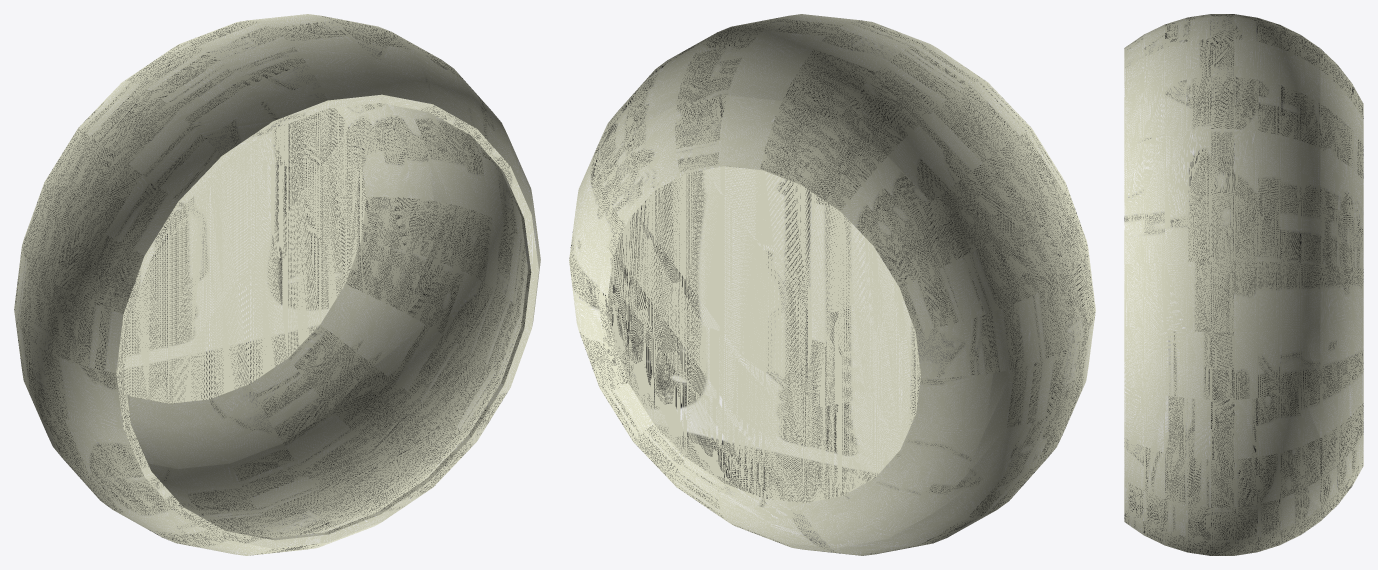
Rendered from model_align.obj.
3 renders of one model, left to right at view 1: azimuth 30°, elevation 25°; view 2: azimuth 150°, elevation 25°; view 3: azimuth 270°, elevation 25°, orthographic. The views are drawn at different scales.
Parts seen in each view (by area): view 1: mesh1_mesh1-geometry; view 2: mesh1_mesh1-geometry; view 3: mesh1_mesh1-geometry.
Boxes of the visible parts, x1,y1,x2,y2 form: mesh1_mesh1-geometry: [14, 14, 540, 555]; mesh1_mesh1-geometry: [569, 14, 1095, 555]; mesh1_mesh1-geometry: [1124, 14, 1363, 555].
Bounding box in the file's own units: 0.1495 × 0.1495 × 0.0657.
